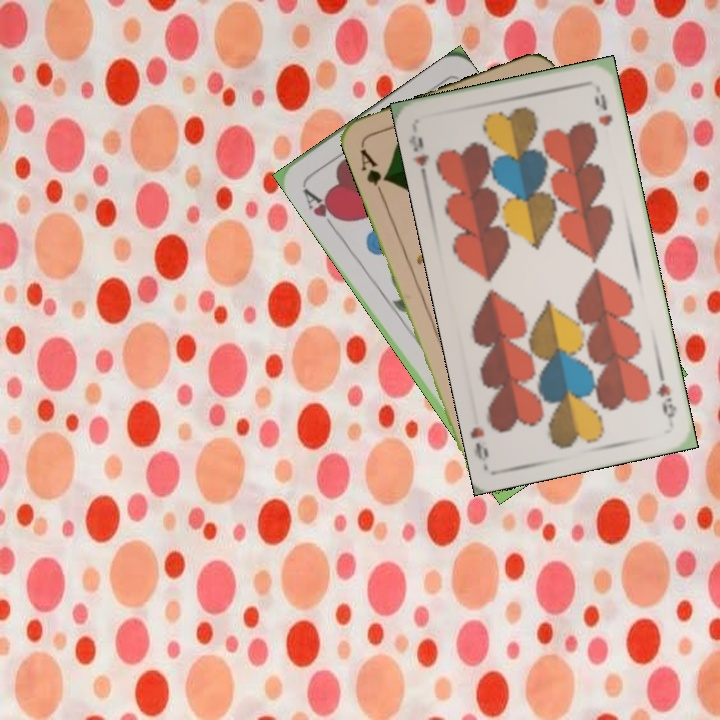GA: (356, 144, 391, 200)
H9: (405, 130, 432, 183), (651, 379, 680, 426)
HA: (298, 183, 346, 234)
